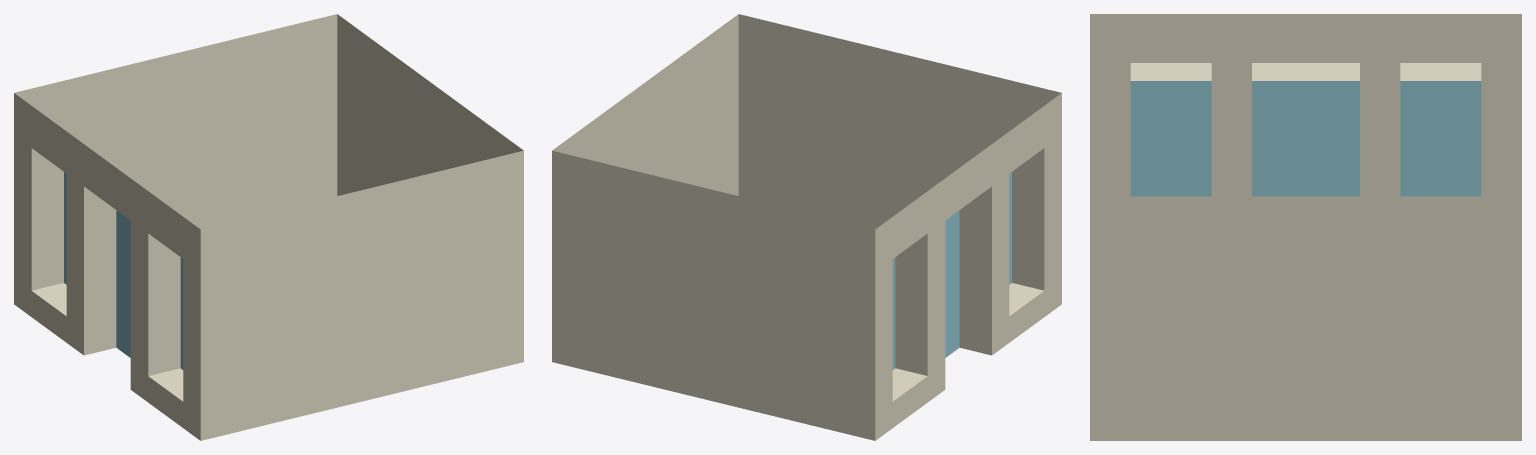
Rendered from modularBuildings_054.obj.
The picture shows the model from 3 angles, left to right: view 1: azimuth 30°, elevation 25°; view 2: azimuth 150°, elevation 25°; view 3: azimuth 270°, elevation 25°; orthographic projection. The views are drawn at different scales.
Visible parts, largest first — view 1: modularBuildings_054; view 2: modularBuildings_054; view 3: modularBuildings_054.
Part boxes in pixels (x1,y1,x2,y2): modularBuildings_054: (14, 14, 523, 440); modularBuildings_054: (552, 14, 1061, 440); modularBuildings_054: (1090, 14, 1521, 440).
Size of the model in its own units: 1 by 0.625 by 1.
